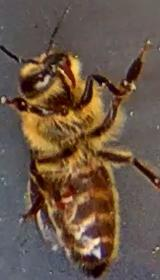varroa_mite: (49, 180, 76, 212)
